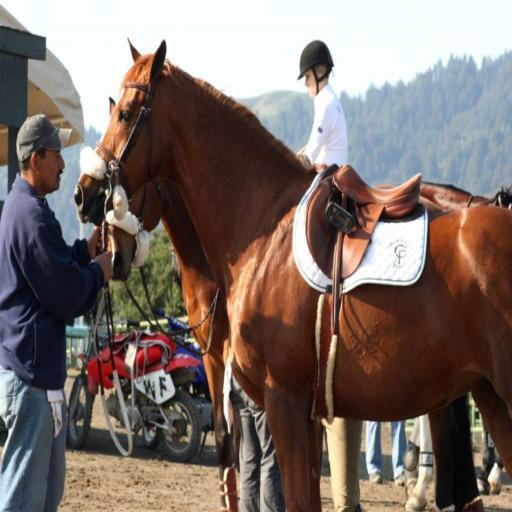horse: (92, 93, 512, 511), (401, 409, 504, 511)
